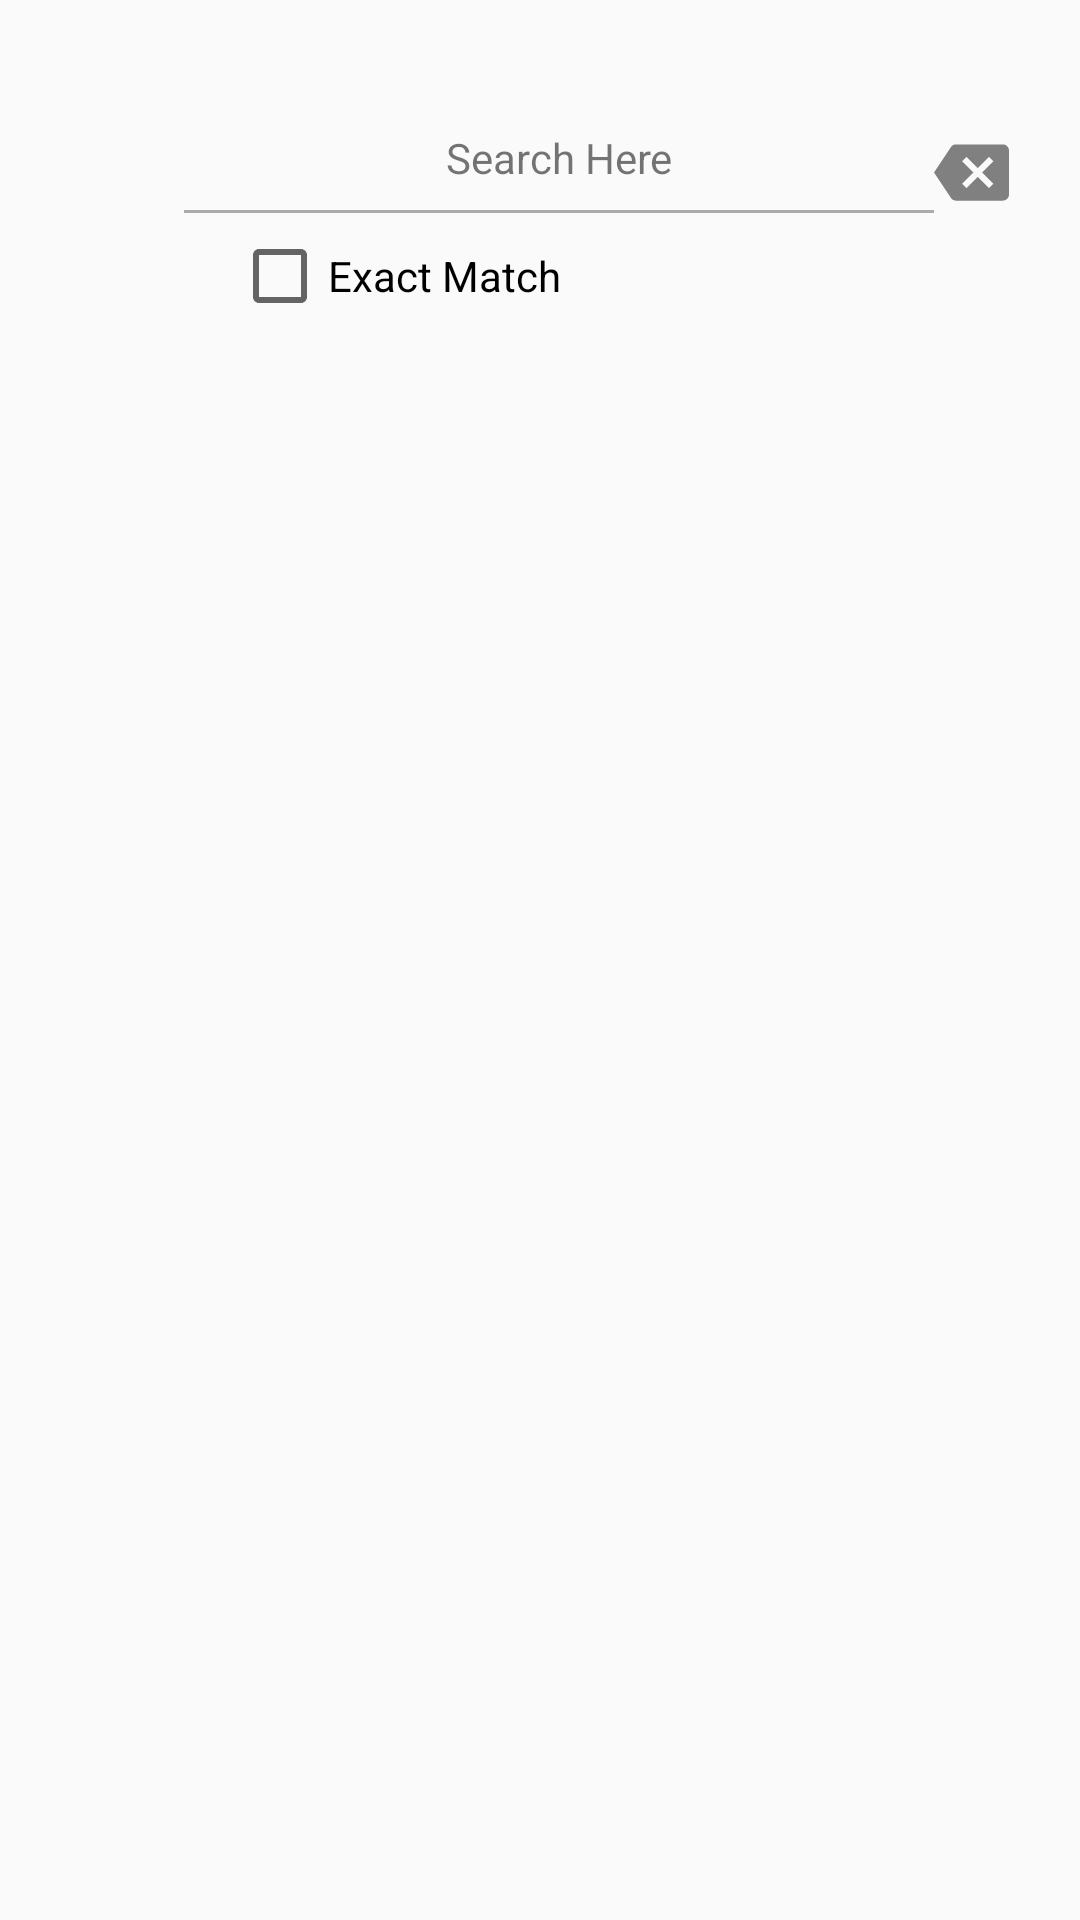

Where to tap for icons on this 1080x1920 app screen, as [x,y]:
backspace: [971,172]
